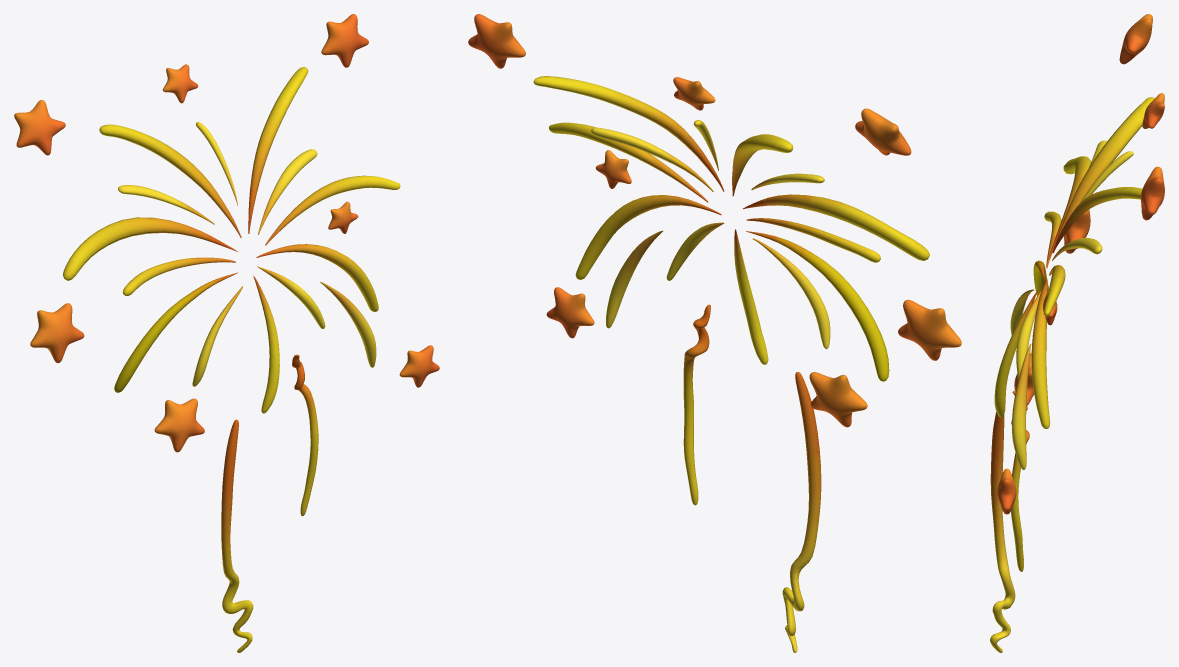
Rendered from Fireworks.glb.
3 renders of one model, left to right at view 1: azimuth 30°, elevation 25°; view 2: azimuth 150°, elevation 25°; view 3: azimuth 270°, elevation 25°, orthographic. The views are drawn at different scales.
Visible parts, largest first — view 1: node_id5; view 2: node_id5; view 3: node_id5.
Boxes of the visible parts, x1,y1,x2,y2 form: node_id5: [14, 14, 439, 652]; node_id5: [468, 14, 961, 652]; node_id5: [990, 14, 1164, 652].
Bounding box in the file's own units: 0.3747 × 0.512 × 0.1418.
Materials: 1 (1 with a texture image).
